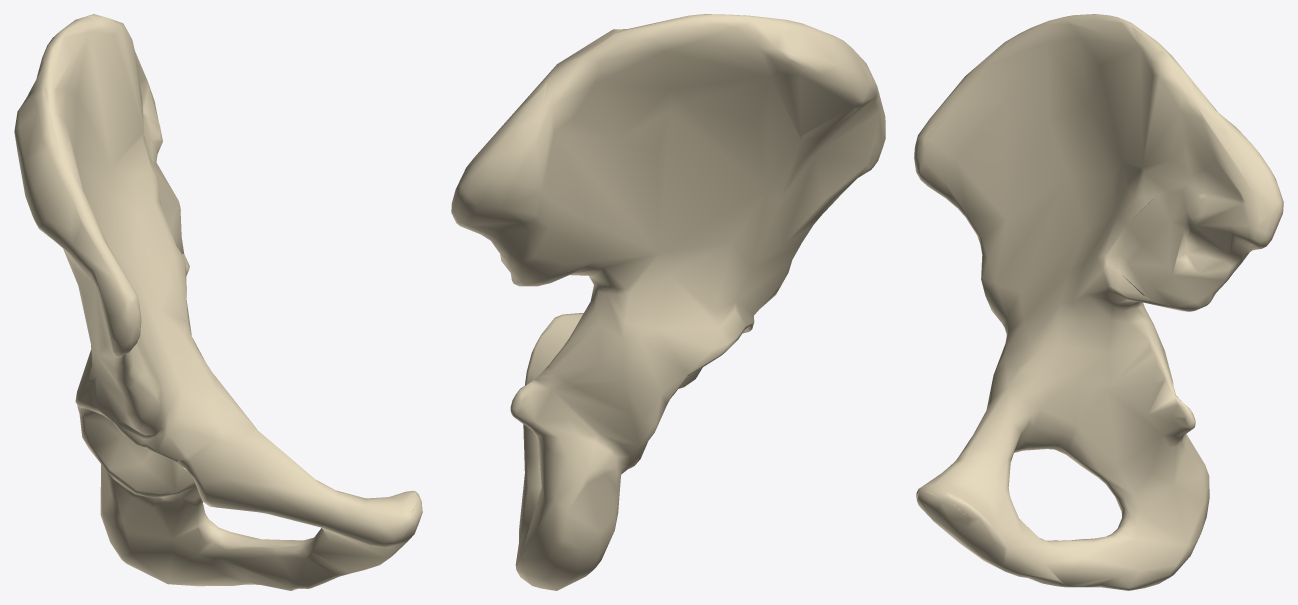
The model's file is esqueleto-hip-bone-r.glb.
The picture shows the model from 3 angles, left to right: view 1: azimuth 30°, elevation 25°; view 2: azimuth 150°, elevation 25°; view 3: azimuth 270°, elevation 25°; orthographic projection. The views are drawn at different scales.
Visible parts, largest first — view 1: Hip bone.r; view 2: Hip bone.r; view 3: Hip bone.r.
Part boxes in pixels (left/top/right/bottom): Hip bone.r: left=14, top=14, right=422, bottom=590; Hip bone.r: left=451, top=14, right=885, bottom=590; Hip bone.r: left=914, top=14, right=1283, bottom=590.
Bounding box in the file's own units: 0.132 × 0.2146 × 0.1429.
